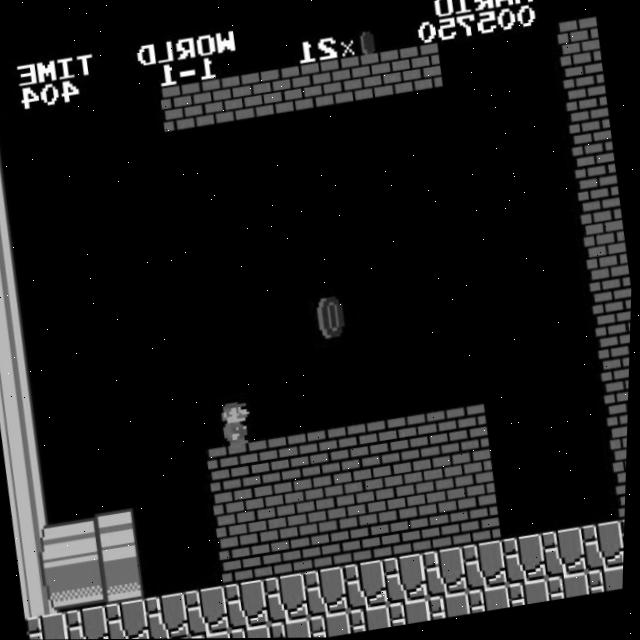1- brick_block: (332, 469, 382, 521), (158, 83, 208, 135), (213, 489, 263, 541), (219, 534, 269, 586), (555, 17, 604, 70), (412, 456, 461, 509), (396, 44, 445, 96), (451, 450, 500, 502), (457, 495, 506, 547), (357, 50, 406, 102), (405, 411, 454, 463), (418, 501, 467, 553), (317, 57, 366, 109), (372, 463, 421, 515), (378, 508, 427, 560), (277, 63, 326, 115), (326, 424, 375, 476), (338, 514, 387, 566), (238, 70, 287, 122), (293, 476, 342, 528), (299, 521, 348, 573), (198, 76, 247, 128), (253, 482, 302, 534), (259, 527, 308, 579), (574, 152, 622, 205), (445, 405, 494, 456), (366, 418, 415, 469), (286, 431, 335, 482), (247, 437, 296, 488), (207, 444, 256, 495), (568, 108, 616, 160), (580, 198, 628, 250), (586, 243, 634, 295), (561, 63, 609, 114), (592, 287, 633, 340), (598, 333, 632, 385), (604, 378, 631, 429), (610, 424, 630, 475), (616, 468, 629, 520)
11- little_mario: (214, 397, 265, 451)
14- pipe: (55, 515, 104, 567), (61, 560, 110, 612), (3, 430, 52, 482), (22, 566, 71, 618), (9, 476, 58, 527), (15, 521, 64, 572), (0, 385, 46, 437), (0, 341, 40, 392), (0, 295, 34, 347), (0, 250, 28, 302), (0, 205, 21, 256), (0, 160, 15, 211), (0, 114, 9, 166)
15- pipe_head: (94, 508, 144, 560), (100, 553, 150, 605)
17- undestructible_block: (542, 527, 592, 579), (423, 547, 473, 599), (225, 579, 274, 632), (503, 534, 552, 586), (463, 540, 512, 592), (384, 553, 433, 605), (344, 560, 393, 612), (305, 566, 354, 618), (265, 573, 314, 625), (186, 586, 235, 638), (582, 520, 628, 573), (146, 592, 195, 639), (106, 598, 155, 639), (67, 605, 116, 640), (28, 610, 77, 640), (549, 572, 594, 602), (470, 585, 515, 615), (391, 598, 436, 628), (430, 592, 475, 621), (351, 605, 396, 634), (510, 579, 554, 608), (311, 611, 356, 638), (589, 565, 627, 594), (272, 617, 317, 638), (232, 624, 276, 639), (193, 631, 237, 639)
2- coin: (308, 289, 357, 341)
